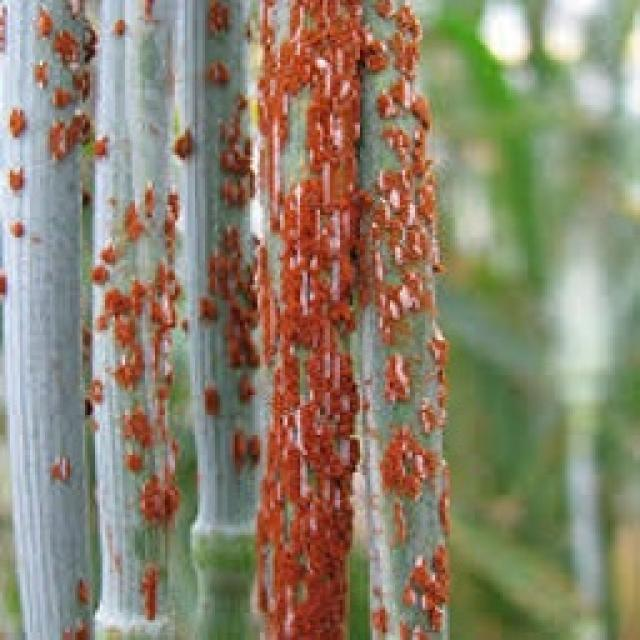Healthy Wheat: (0, 0, 455, 638)
